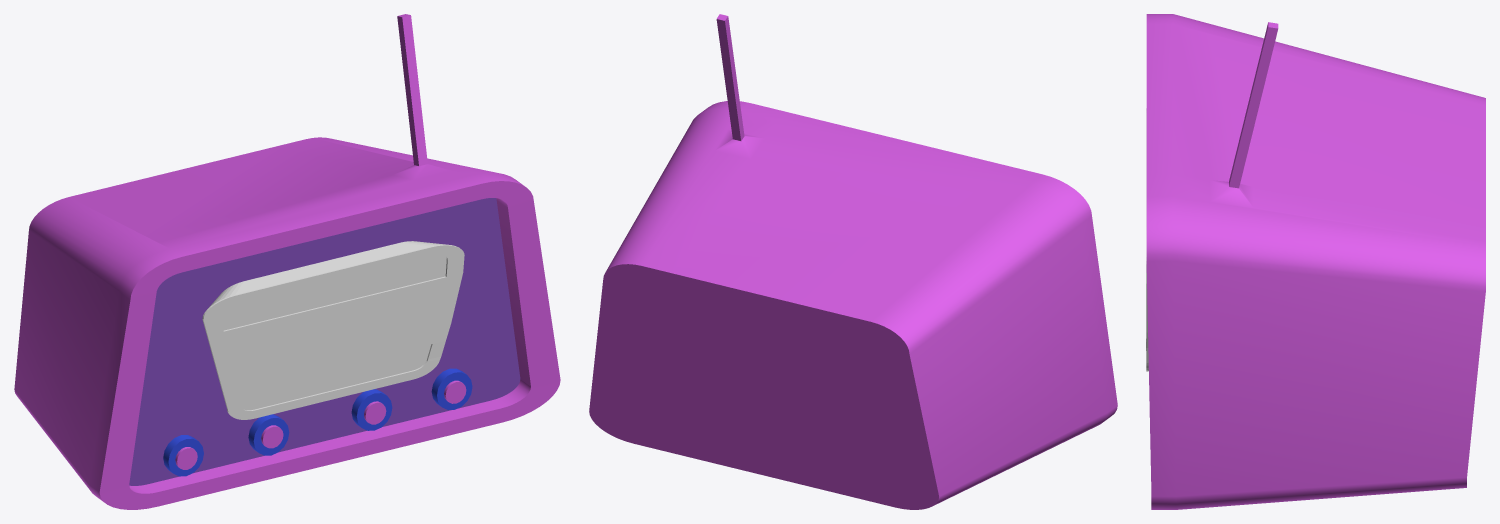
File: RADIO.fbx
3 renders of one model, left to right at view 1: azimuth 30°, elevation 25°; view 2: azimuth 150°, elevation 25°; view 3: azimuth 270°, elevation 25°, orthographic. The views are drawn at different scales.
Visible parts, largest first — view 1: Cylinder.007; view 2: Cylinder.007; view 3: Cylinder.007.
Part boxes in pixels (<box>): Cylinder.007: <box>14,14,560,509</box>; Cylinder.007: <box>589,14,1117,509</box>; Cylinder.007: <box>1146,14,1485,509</box>.
Bounding box in the file's own units: 1171 × 929 × 639.
